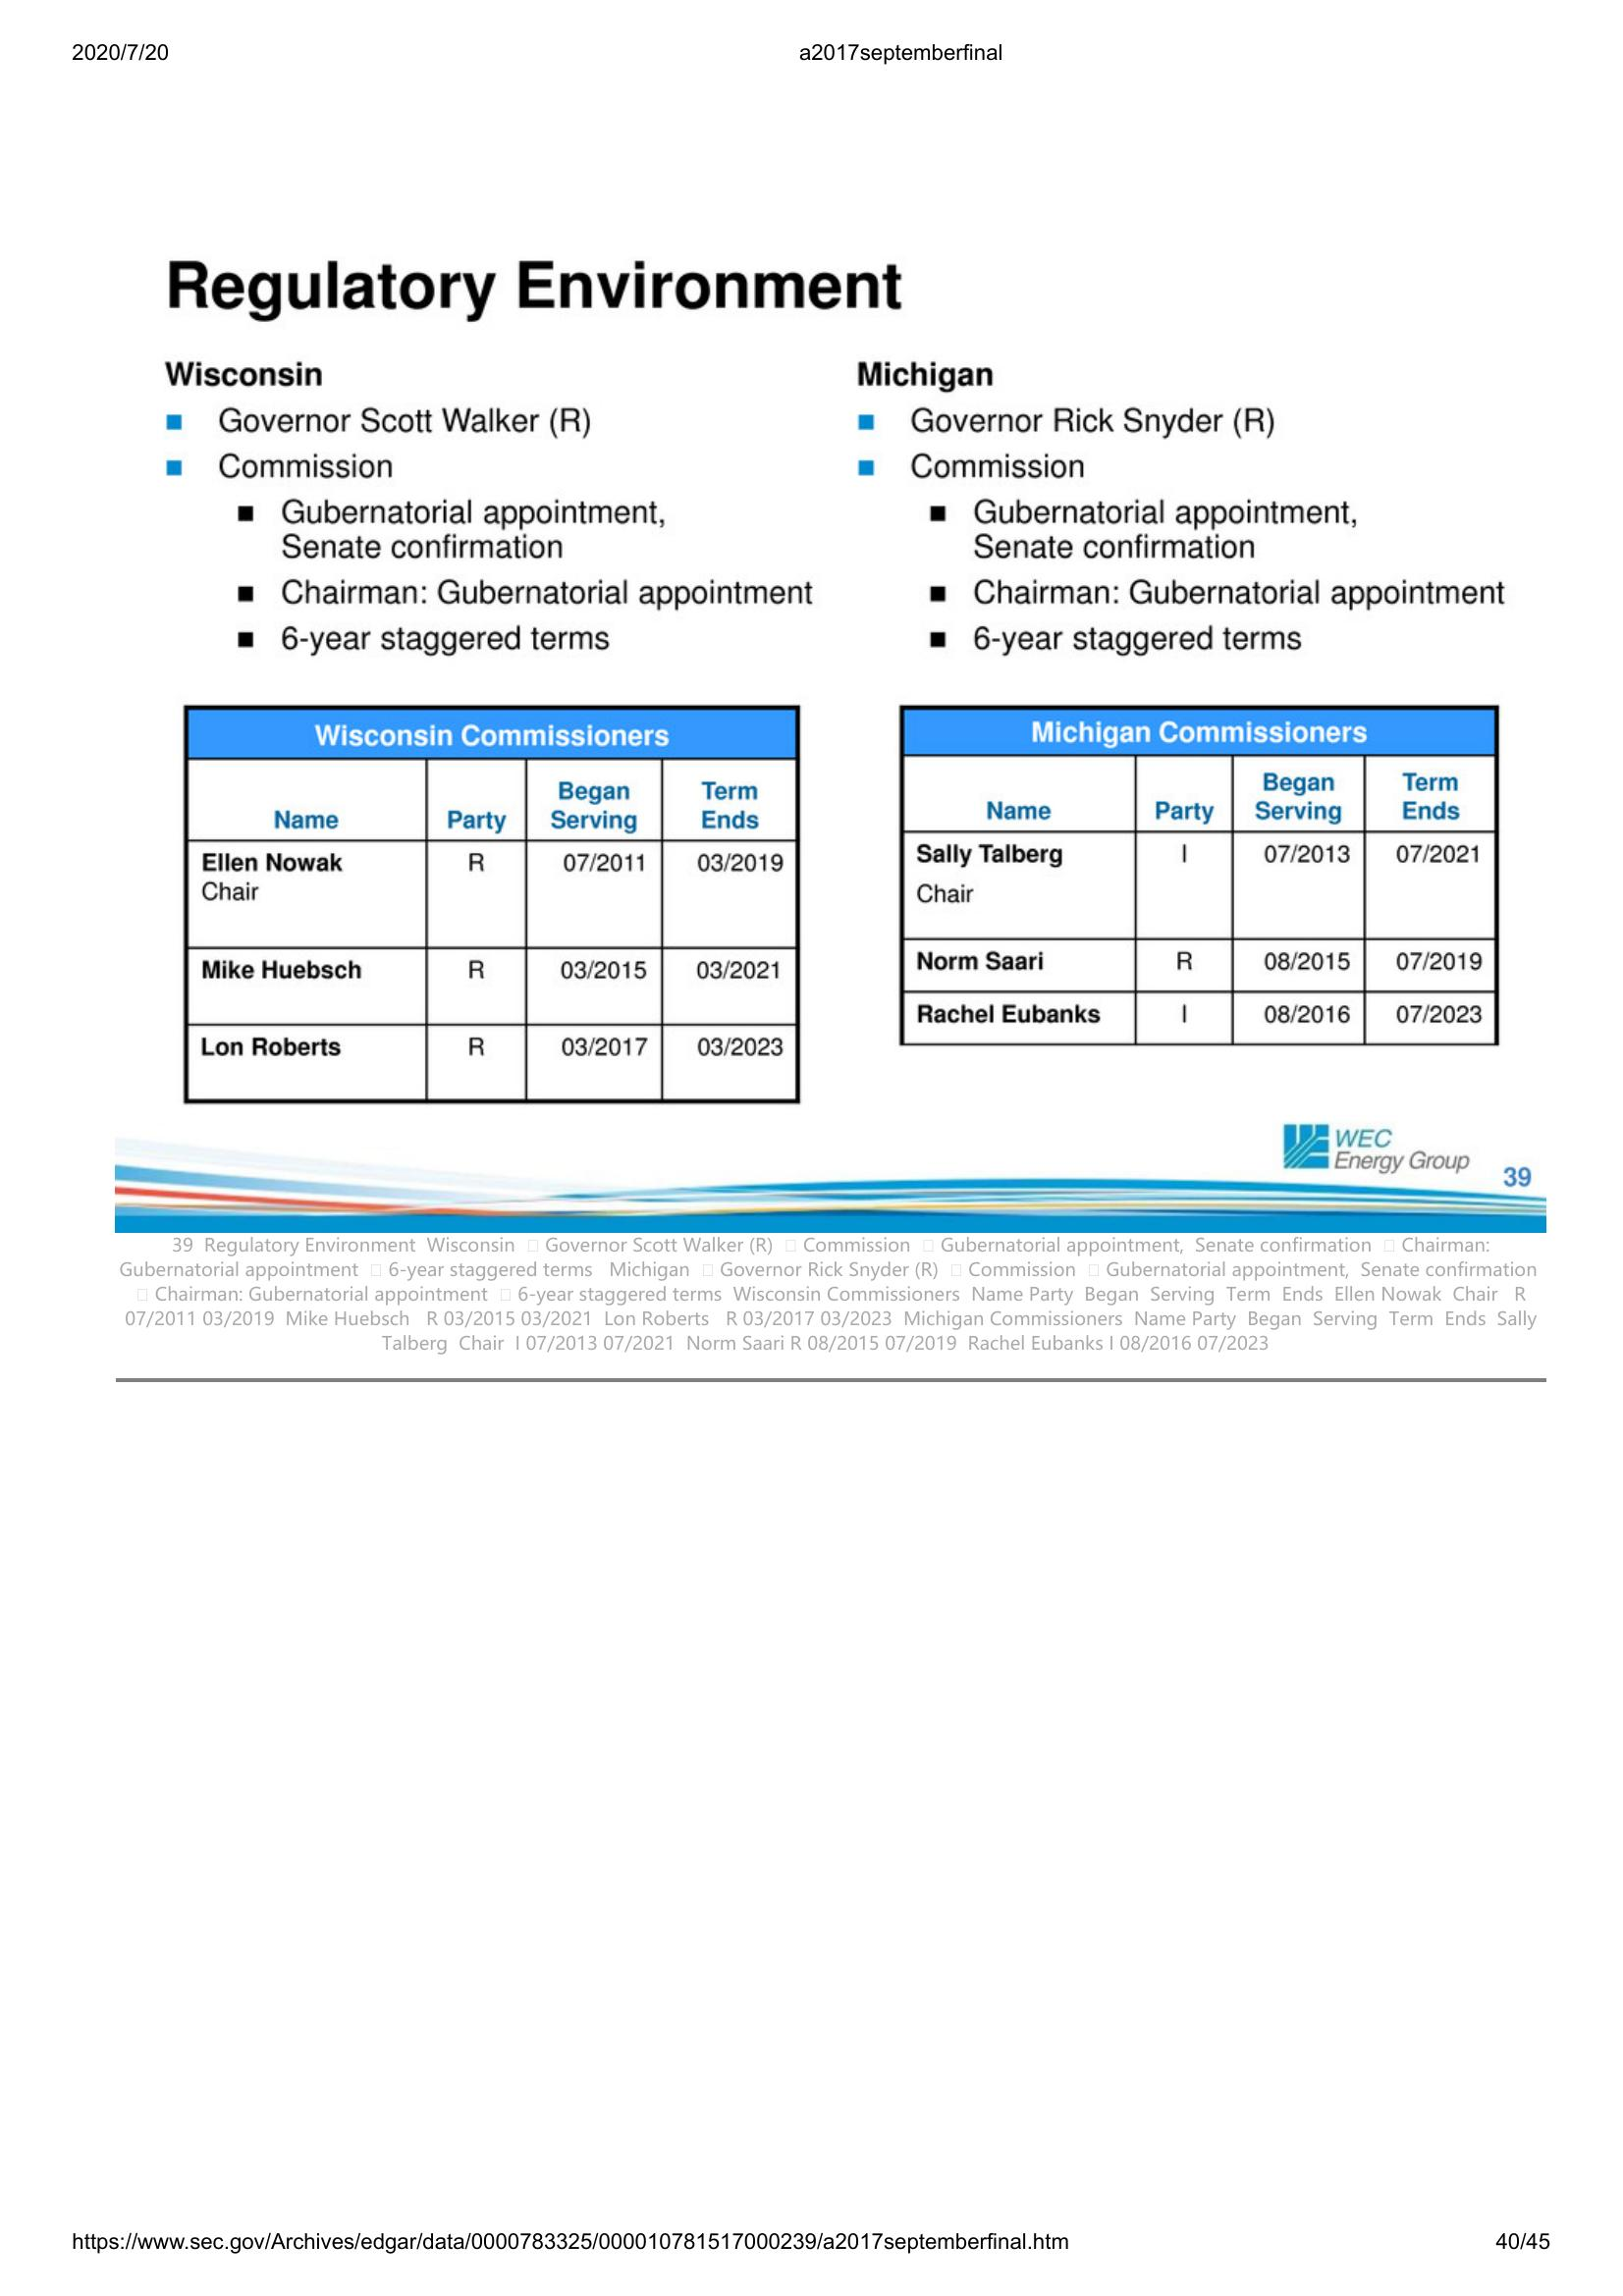table: (174, 697, 810, 1109), (894, 697, 1509, 1051)
